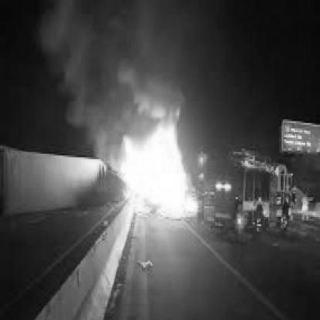other: (215, 178, 233, 192), (234, 211, 246, 223), (197, 152, 205, 166)
